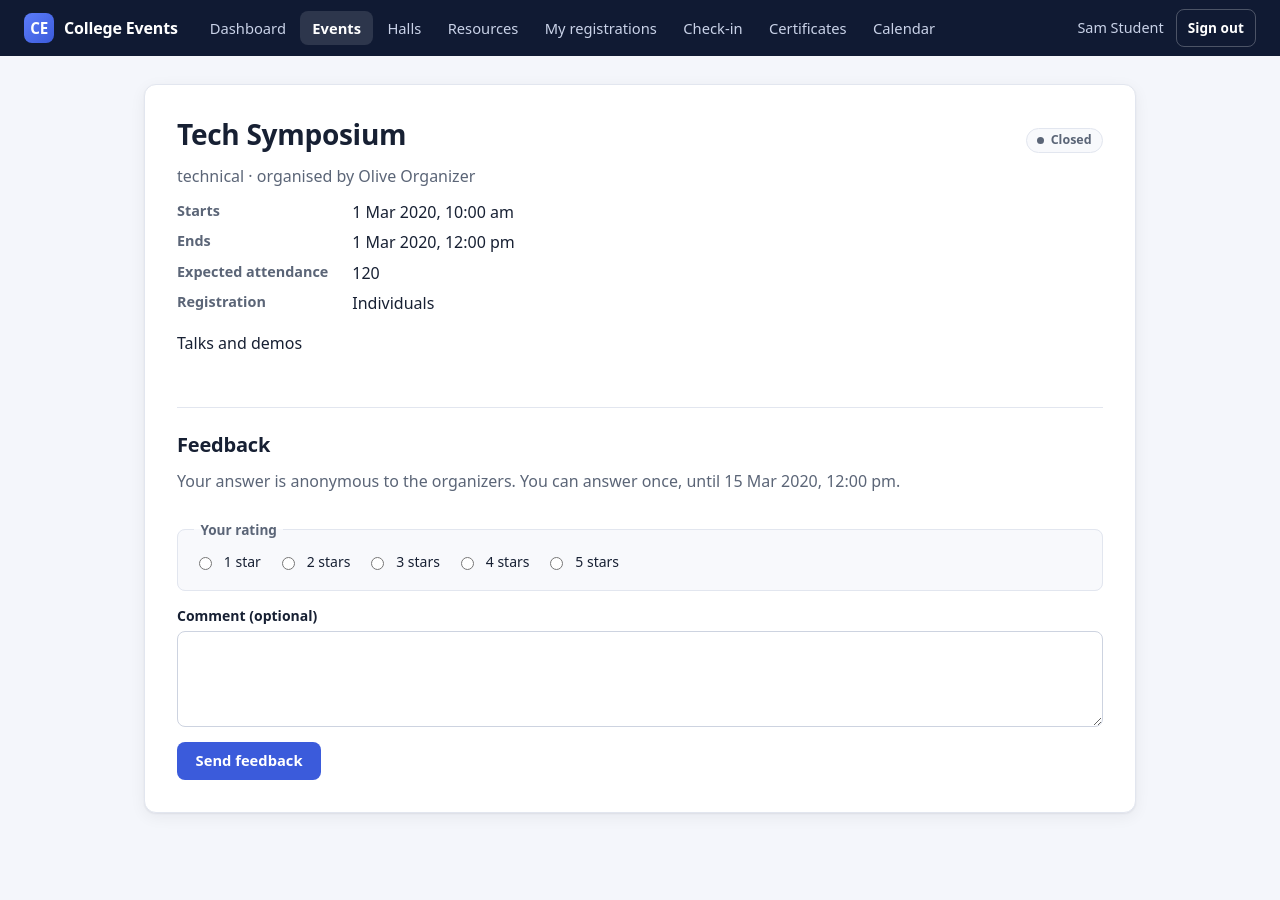
giving feedback › shows the server message when sending is refused
The image size is (1280, 900).
Step 1. Click the radio button labelled "3 stars" → (378, 563), box [371,557,384,570]
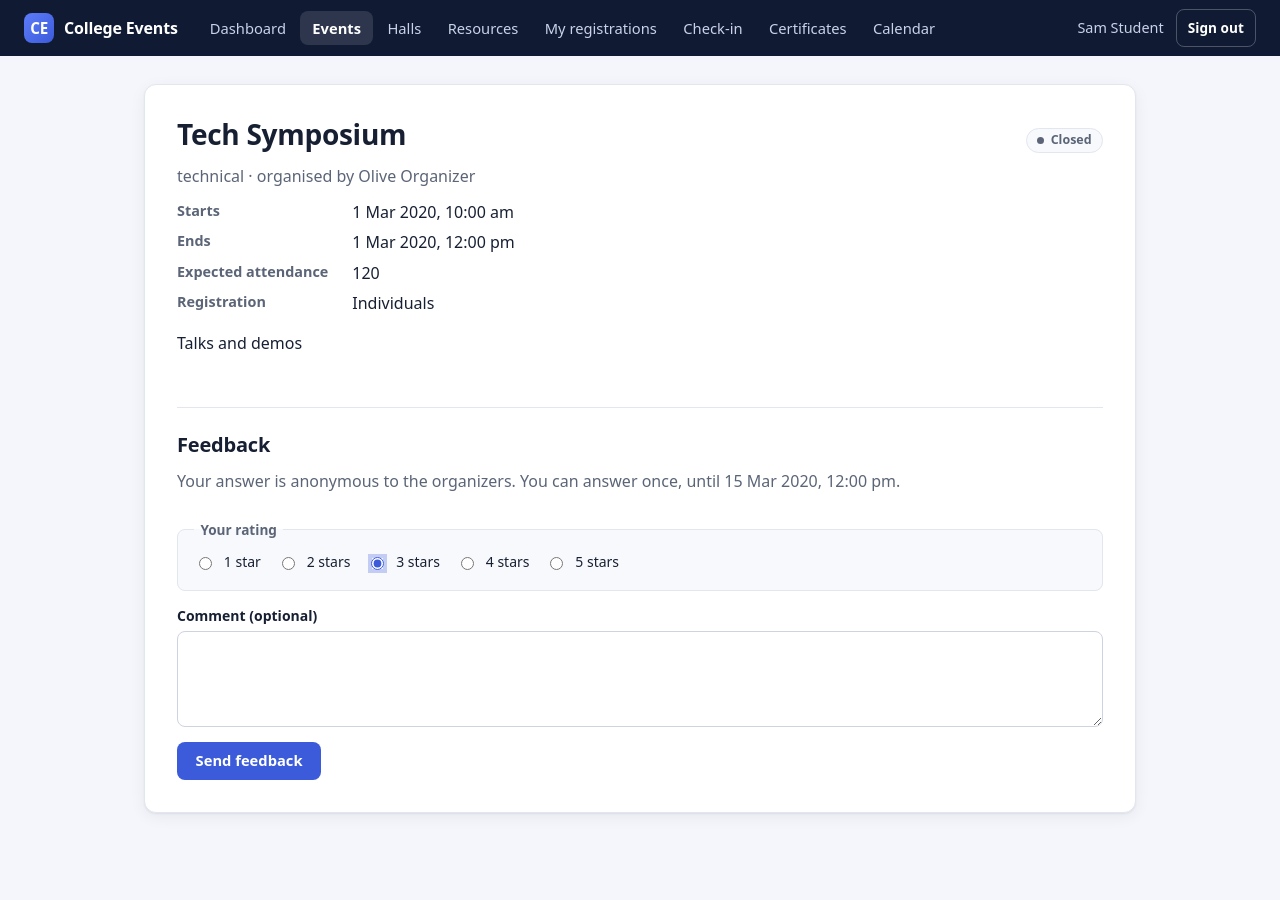
Step 2. Click the button "Send feedback" → (249, 761), box [177,742,321,780]
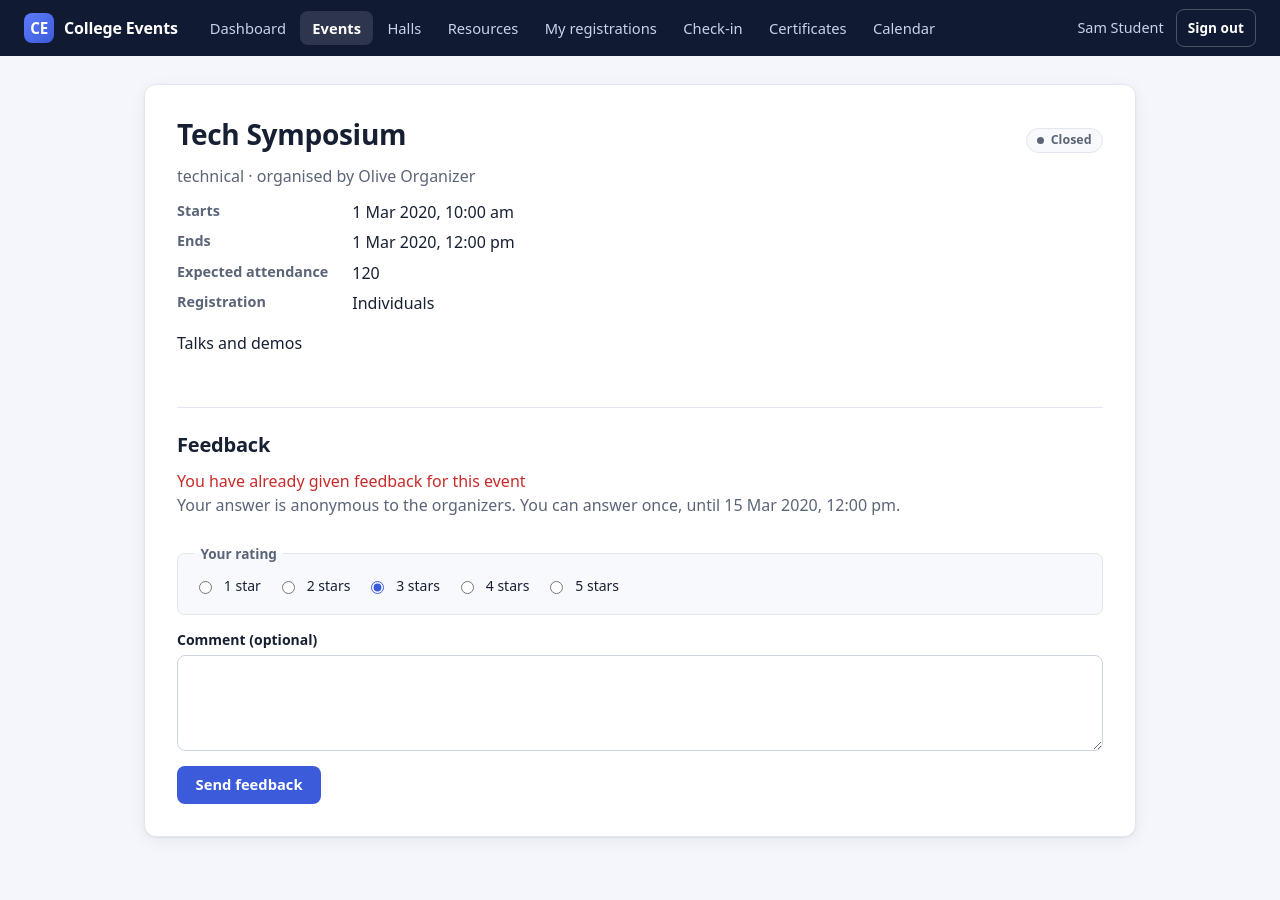
Check: the message shows "already given feedback", box [177,470,526,492]
